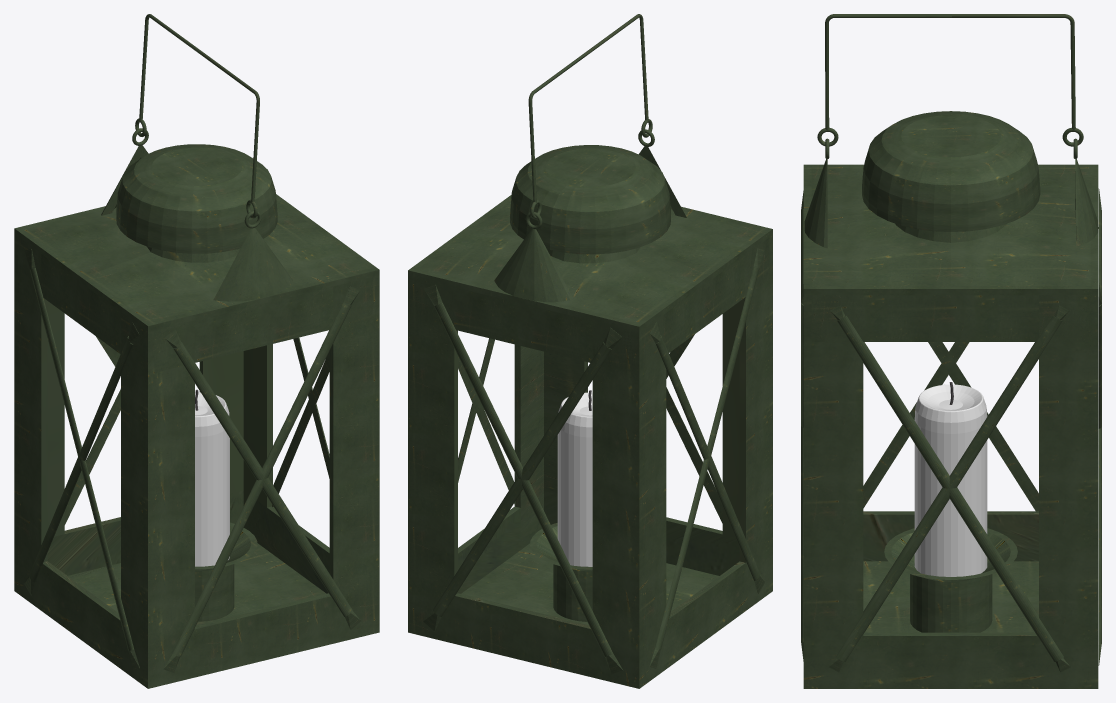
File: Lantern_Hold.fbx
3 renders of one model, left to right at view 1: azimuth 30°, elevation 25°; view 2: azimuth 150°, elevation 25°; view 3: azimuth 270°, elevation 25°, orthographic. The views are drawn at different scales.
Parts seen in each view (by area): view 1: Cube.001, Cylinder.001, Cube.003, Cube.005, Cylinder.002, Cone.002, Cylinder, Cube.004, Torus, Cube.002, Cone.001; view 2: Cube.001, Cylinder.001, Cube.002, Cylinder.002, Cube.005, Cone.001, Cylinder, Cube.004, Torus, Cube.003, Cone.002; view 3: Cube.001, Cylinder.001, Cylinder.002, Cube.004, Cylinder, Cube.005, Torus, Cube.002, Cone.002, Cube.003, Cone.001.
Part boxes in pixels (x1=…): Cube.001: x1=14, y1=194, x2=379, y2=688; Cylinder.001: x1=116, y1=144, x2=277, y2=253; Cube.003: x1=163, y1=286, x2=361, y2=672; Cube.005: x1=24, y1=248, x2=139, y2=670; Cylinder.002: x1=195, y1=392, x2=229, y2=566; Cone.002: x1=213, y1=210, x2=292, y2=301; Cylinder: x1=195, y1=522, x2=257, y2=621; Cube.004: x1=272, y1=337, x2=329, y2=506; Torus: x1=135, y1=14, x2=259, y2=218; Cube.002: x1=64, y1=336, x2=120, y2=524; Cone.001: x1=101, y1=128, x2=148, y2=215; Cube.001: x1=408, y1=195, x2=772, y2=688; Cylinder.001: x1=510, y1=145, x2=670, y2=254; Cube.002: x1=423, y1=285, x2=622, y2=674; Cylinder.002: x1=557, y1=392, x2=592, y2=566; Cube.005: x1=649, y1=248, x2=764, y2=668; Cone.001: x1=494, y1=212, x2=573, y2=302; Cylinder: x1=530, y1=523, x2=592, y2=621; Cube.004: x1=458, y1=338, x2=515, y2=505; Torus: x1=528, y1=14, x2=652, y2=218; Cube.003: x1=666, y1=334, x2=722, y2=523; Cone.002: x1=638, y1=129, x2=686, y2=217; Cube.001: x1=803, y1=164, x2=1098, y2=688; Cylinder.001: x1=862, y1=111, x2=1040, y2=231; Cylinder.002: x1=914, y1=384, x2=987, y2=576; Cube.004: x1=829, y1=305, x2=1070, y2=672; Cylinder: x1=884, y1=528, x2=1017, y2=632; Cube.005: x1=863, y1=342, x2=1038, y2=511; Torus: x1=817, y1=14, x2=1083, y2=146; Cube.002: x1=1098, y1=188, x2=1101, y2=665; Cone.002: x1=804, y1=138, x2=829, y2=248; Cube.003: x1=801, y1=191, x2=803, y2=661; Cone.001: x1=1073, y1=138, x2=1098, y2=246.
Size of the model in its own units: 203 by 461 by 204.
Materials: 2 (1 with a texture image).
